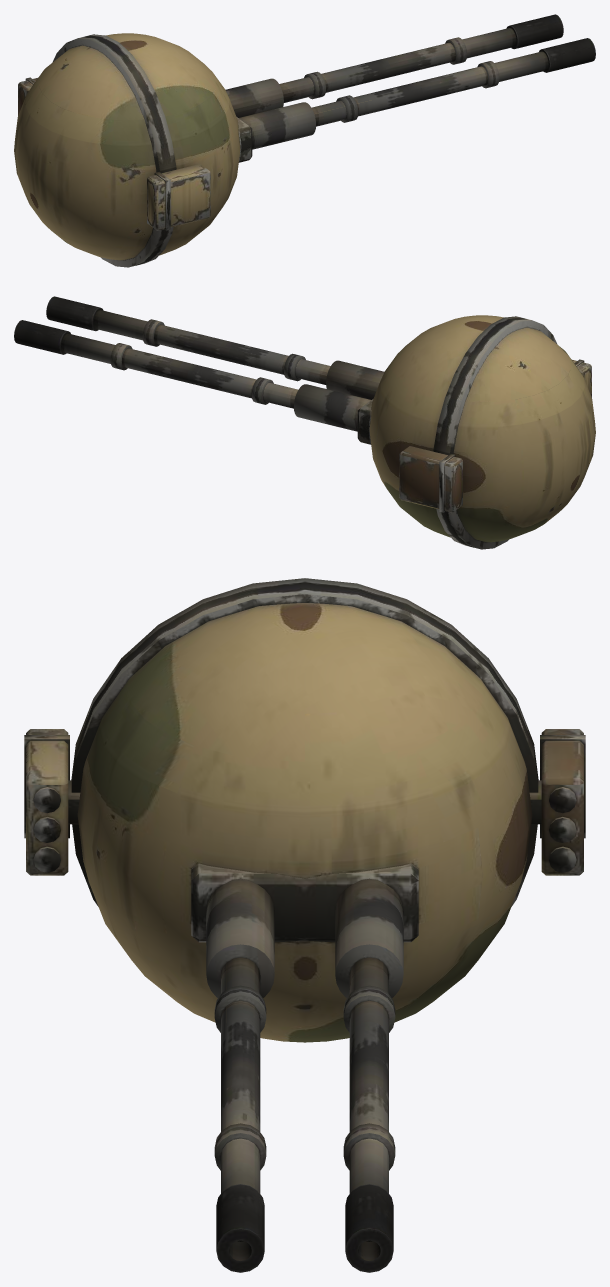
Rendered from turret_kit_tail_ball_t1_reed.glb.
The picture shows the model from 3 angles, top to bottom: view 1: azimuth 30°, elevation 25°; view 2: azimuth 150°, elevation 25°; view 3: azimuth 270°, elevation 25°; orthographic projection. The views are drawn at different scales.
Parts seen in each view (by area): view 1: turret_tail_ball_t1, pods; view 2: turret_tail_ball_t1, pods; view 3: turret_tail_ball_t1, pods.
Part boxes in pixels (x1,y1,x2,y2): turret_tail_ball_t1: (14, 14, 595, 267); pods: (18, 77, 210, 230); turret_tail_ball_t1: (14, 296, 595, 549); pods: (399, 359, 591, 512); turret_tail_ball_t1: (71, 578, 538, 1272); pods: (24, 729, 585, 875).
Bounding box in the file's own units: 1.66 × 0.62 × 0.7402.
2 materials, 2 textured.
